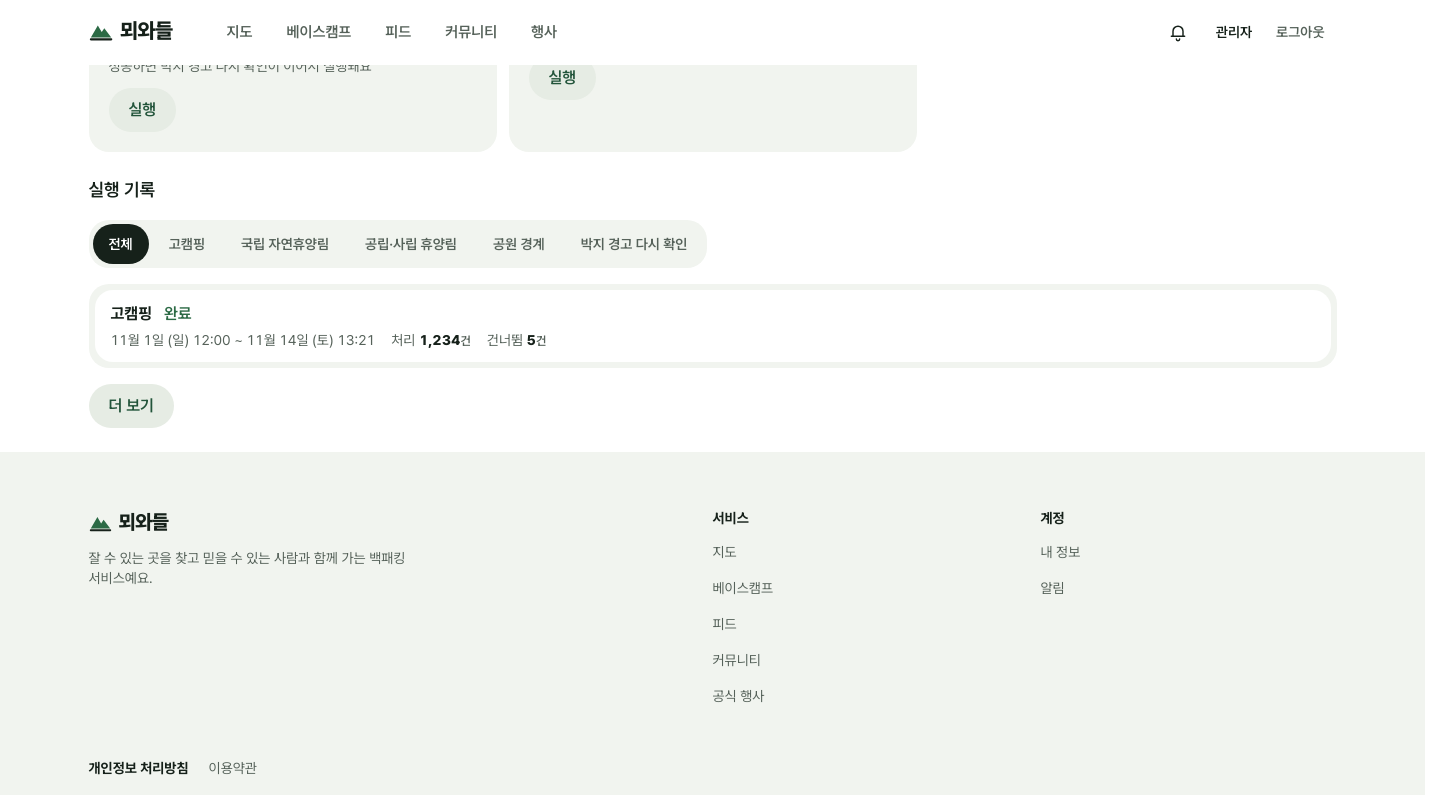
Test: 관리자 데이터 불러오기 › 더 보기를 누르면 다음 쪽을 이어 붙이고, 마지막 쪽이면 버튼이 사라진다
This screenshot has width=1440, height=795.
(page scrolled)
Click the button "더 보기". click: (131, 406)
box: x1=88 y1=384 x2=174 y2=428
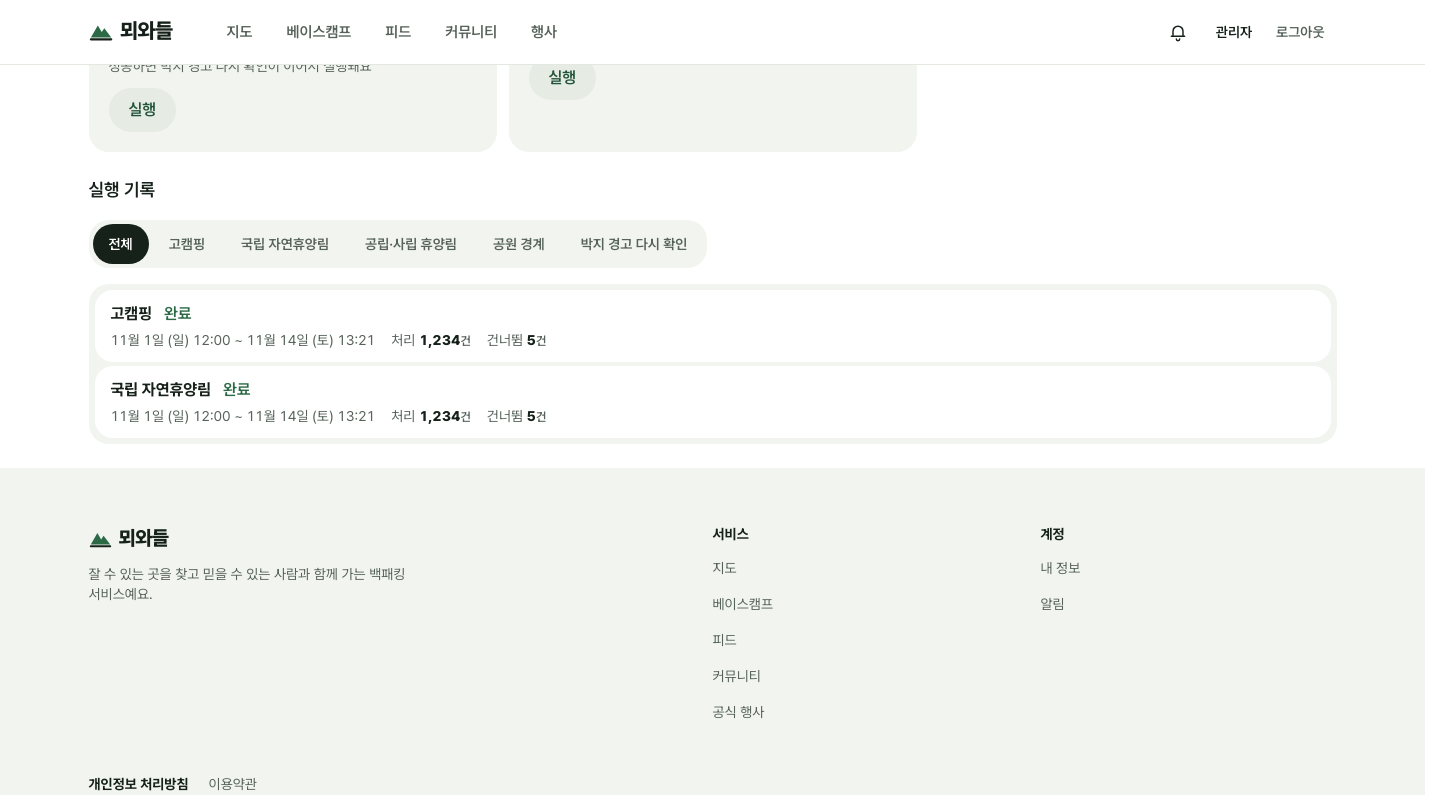
expect the list item that starts with "국립 자연휴양림" is shown: met, box x1=110 y1=380 x2=211 y2=398
